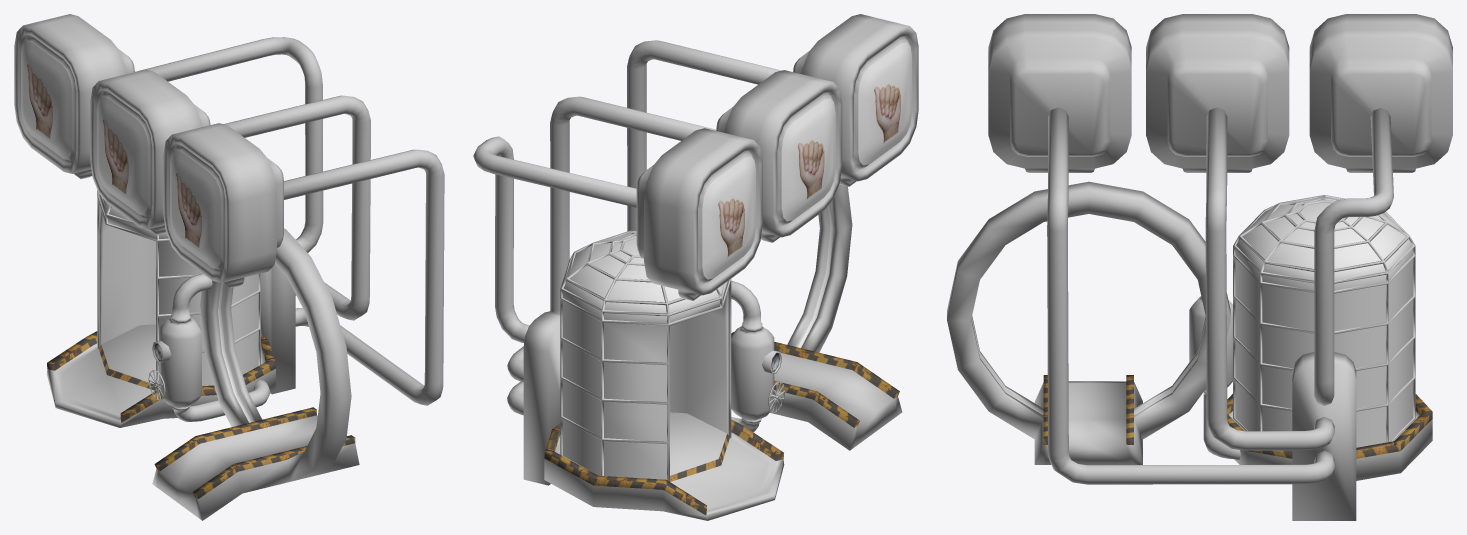
The model's file is goalAsset.fbx.
3 renders of one model, left to right at view 1: azimuth 30°, elevation 25°; view 2: azimuth 150°, elevation 25°; view 3: azimuth 270°, elevation 25°, orthographic. The views are drawn at different scales.
Parts seen in each view (by area): view 1: endgoal, endgoal.001, endgoal.003, endgoal.002; view 2: endgoal, endgoal.001, endgoal.003, endgoal.002; view 3: endgoal.
Boxes of the visible parts, x1,y1,x2,y2 form: endgoal: (14, 14, 444, 520); endgoal.001: (96, 96, 148, 214); endgoal.003: (170, 150, 221, 267); endgoal.002: (21, 41, 72, 158); endgoal: (473, 14, 918, 520); endgoal.001: (781, 98, 835, 221); endgoal.003: (858, 42, 911, 165); endgoal.002: (702, 156, 755, 279); endgoal: (947, 14, 1452, 520).
Size of the model in its own units: 1038 by 1374 by 1582.
